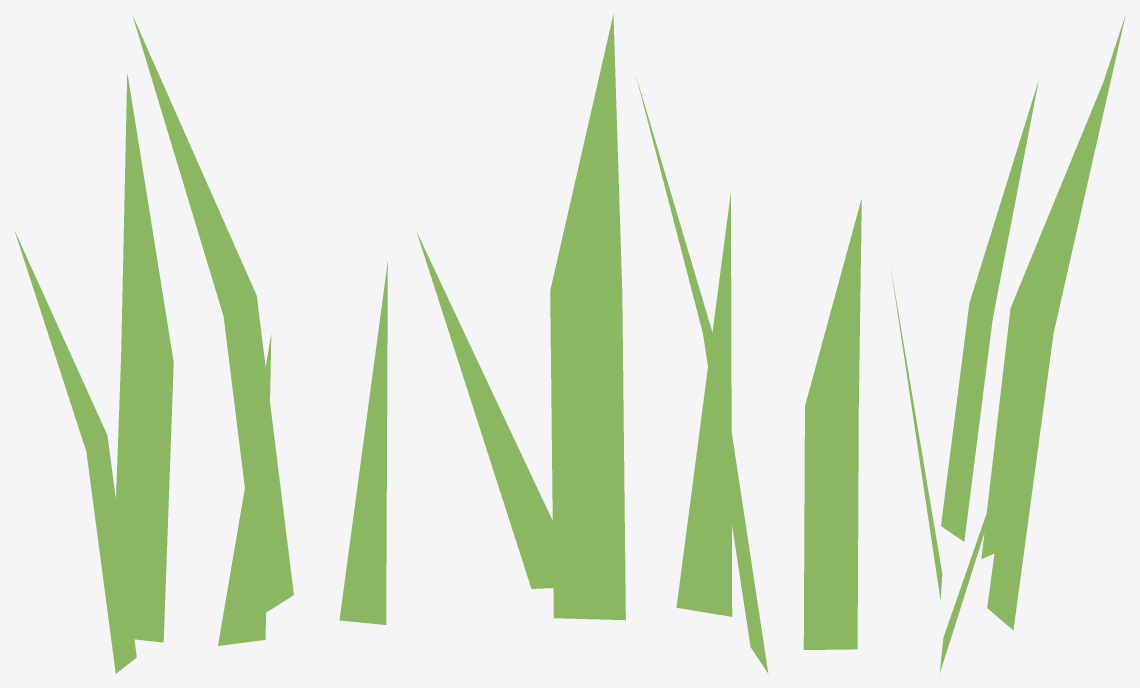
File: Grass_b_OneS_03.fbx
3 renders of one model, left to right at view 1: azimuth 30°, elevation 25°; view 2: azimuth 150°, elevation 25°; view 3: azimuth 270°, elevation 25°, orthographic. The views are drawn at different scales.
Parts seen in each view (by area): view 1: Grass_b_OneS_03; view 2: Grass_b_OneS_03; view 3: Grass_b_OneS_03.
Boxes of the visible parts, box(x1,y1,x2,y2) form: Grass_b_OneS_03: box(15, 15, 387, 673); Grass_b_OneS_03: box(416, 14, 861, 673); Grass_b_OneS_03: box(890, 15, 1125, 673).
Bounding box in the file's own units: 0.3187 × 0.4782 × 0.1758.
